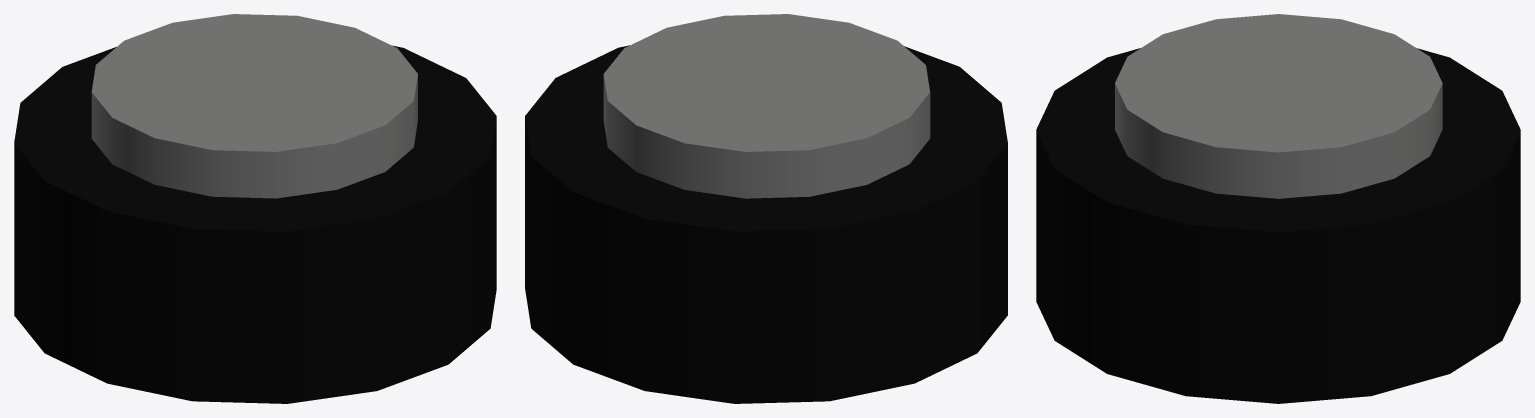
The model's file is car_wheel.fbx.
3 views of the same model, side by side, from view 1: azimuth 30°, elevation 25°; view 2: azimuth 150°, elevation 25°; view 3: azimuth 270°, elevation 25° (orthographic).
Parts seen in each view (by area): view 1: car_wheel; view 2: car_wheel; view 3: car_wheel.
Part boxes in pixels (x1,y1,x2,y2): car_wheel: (14, 14, 496, 403); car_wheel: (525, 14, 1007, 403); car_wheel: (1036, 14, 1520, 403).
Size of the model in its own units: 81.25 by 40.34 by 81.25.
